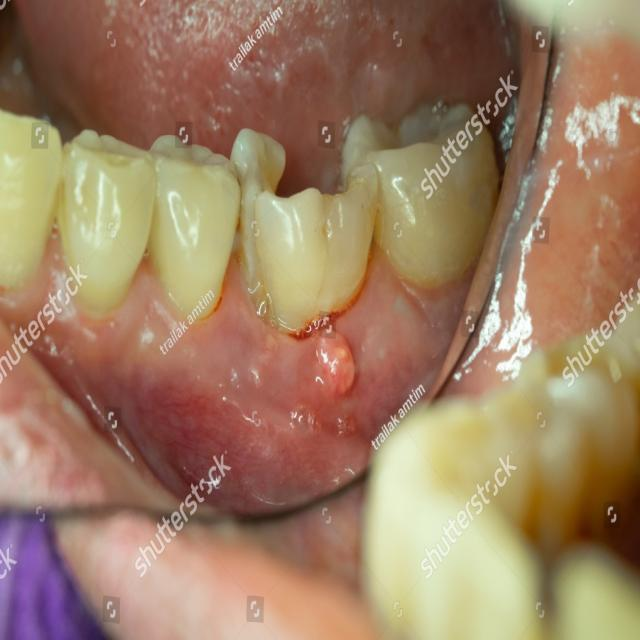abscess: (278, 319, 392, 437)
